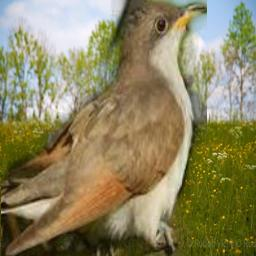Cuckoo: (1, 0, 207, 256)
